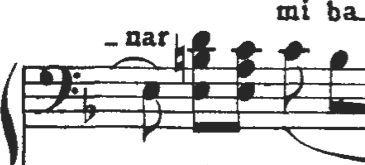bass_clef: (30, 55, 82, 118)
flat: (80, 86, 101, 133)
